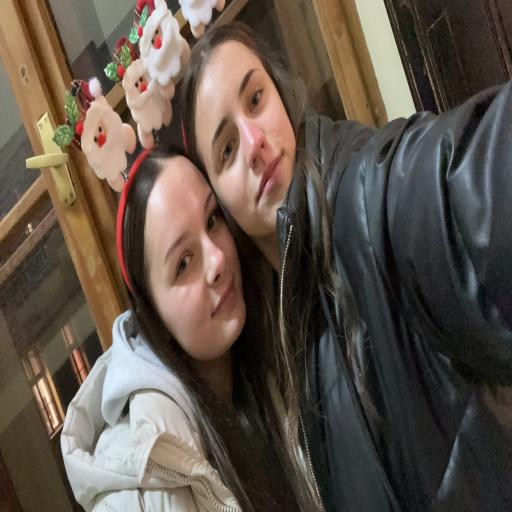marija: (136, 156, 247, 364)
masa: (206, 38, 296, 234)
